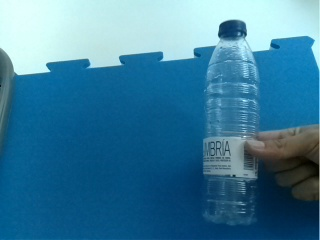botella plastico: (201, 18, 262, 226)
